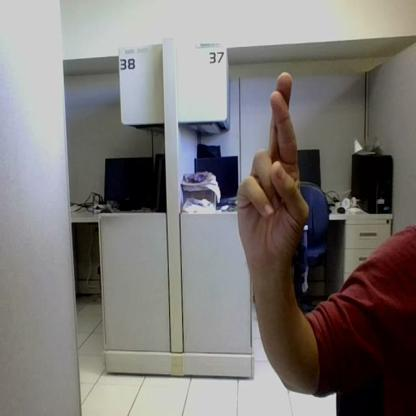R: (237, 73, 307, 256)
